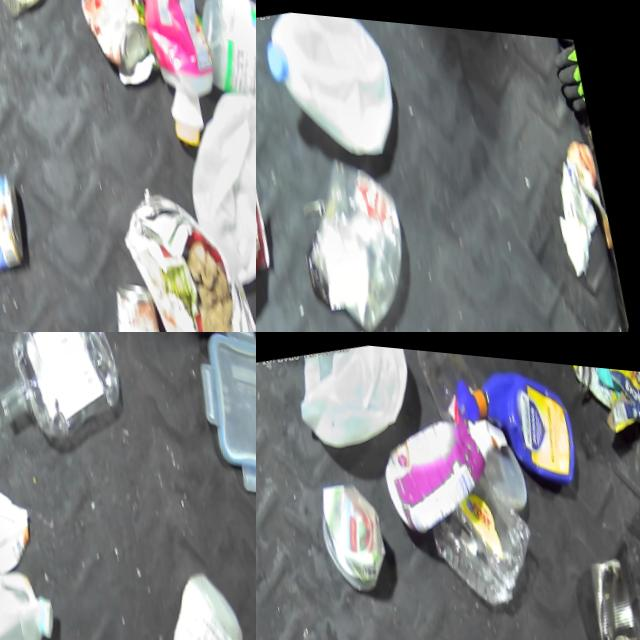can: (310, 467, 400, 595), (69, 0, 162, 88), (581, 537, 640, 640), (0, 137, 41, 285), (98, 262, 183, 332)
milk_jug: (256, 4, 409, 170), (163, 63, 256, 289), (285, 334, 422, 454), (143, 549, 256, 640), (187, 0, 256, 113), (0, 541, 70, 640), (0, 468, 45, 574)
non_white_jug: (369, 382, 525, 536), (446, 346, 586, 495)
plastic_bottle: (0, 332, 133, 447)
